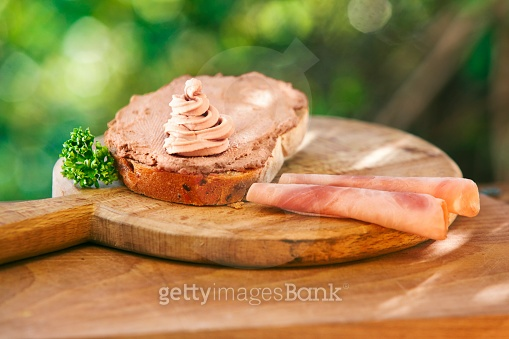slice of bread: (107, 68, 318, 211)
